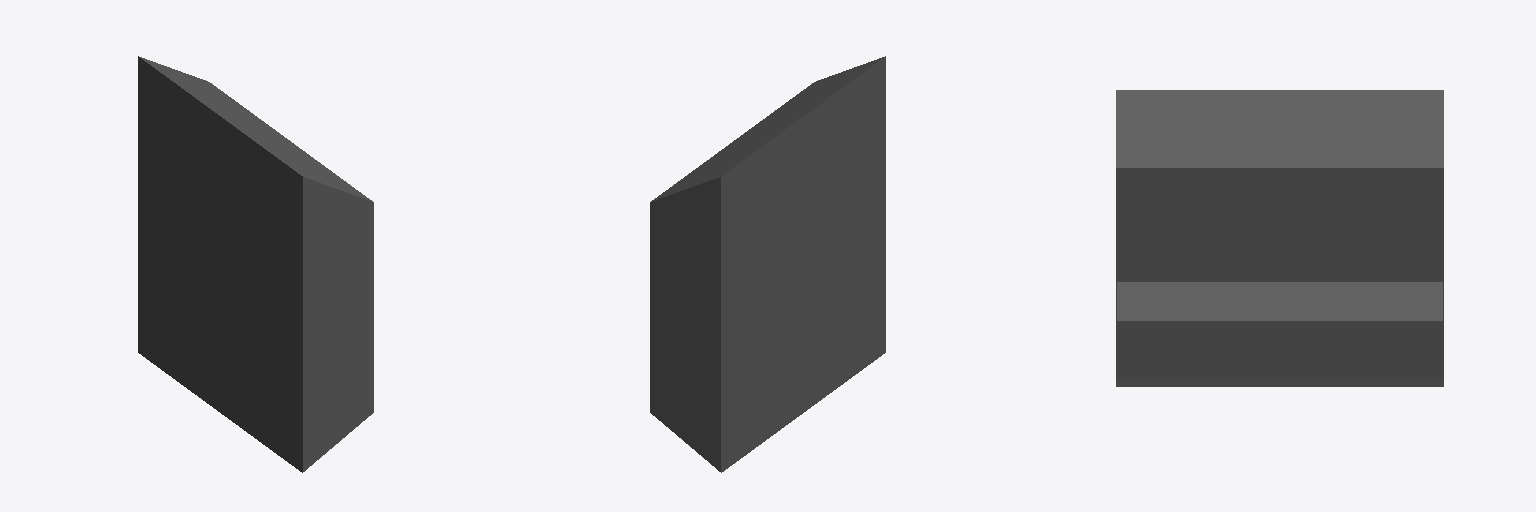
The model's file is kitkat_sides.obj.
3 views of the same model, side by side, from view 1: azimuth 30°, elevation 25°; view 2: azimuth 150°, elevation 25°; view 3: azimuth 270°, elevation 25° (orthographic).
Parts seen in each view (by area): view 1: kitkat_sides; view 2: kitkat_sides; view 3: kitkat_sides.
Part boxes in pixels (x1,y1,x2,y2): kitkat_sides: (138,56,373,472); kitkat_sides: (650,56,885,472); kitkat_sides: (1116,90,1443,386).
Size of the model in its own units: 0.5 by 1.99 by 2.